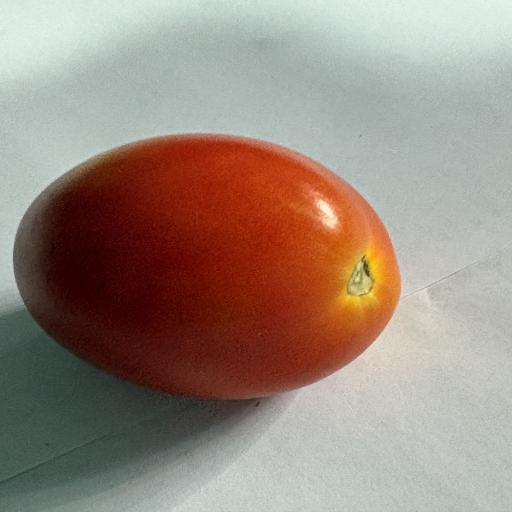ripe: (14, 134, 400, 399)
